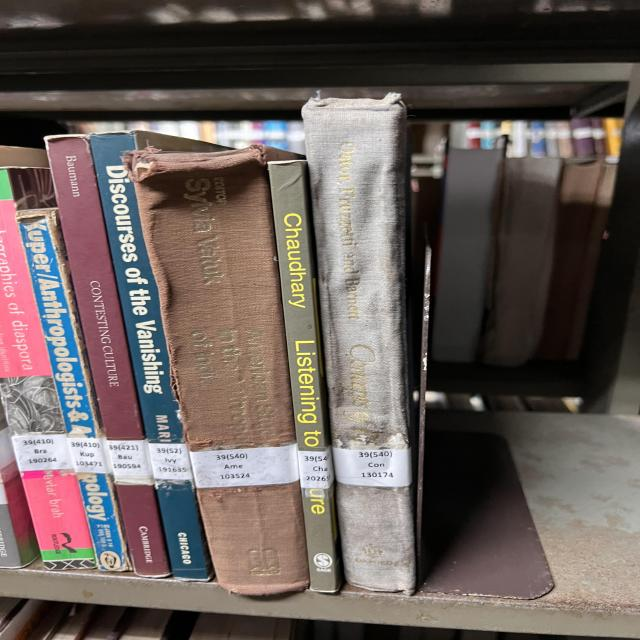Book: (123, 145, 308, 595), (302, 95, 415, 594), (90, 131, 212, 580), (47, 135, 170, 578), (17, 209, 130, 571), (0, 166, 95, 570), (268, 160, 342, 592)
Label: (190, 444, 298, 489), (333, 448, 412, 488), (12, 434, 73, 472), (107, 439, 153, 485), (148, 442, 192, 480), (67, 438, 112, 474), (298, 448, 333, 489)
